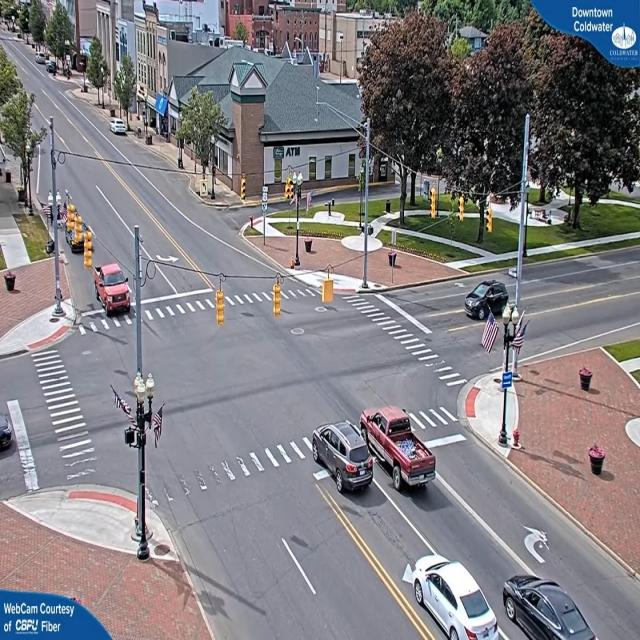car: (404, 559, 506, 640), (503, 576, 598, 639), (311, 424, 373, 494), (462, 276, 510, 319), (96, 264, 135, 316), (110, 119, 128, 136)
